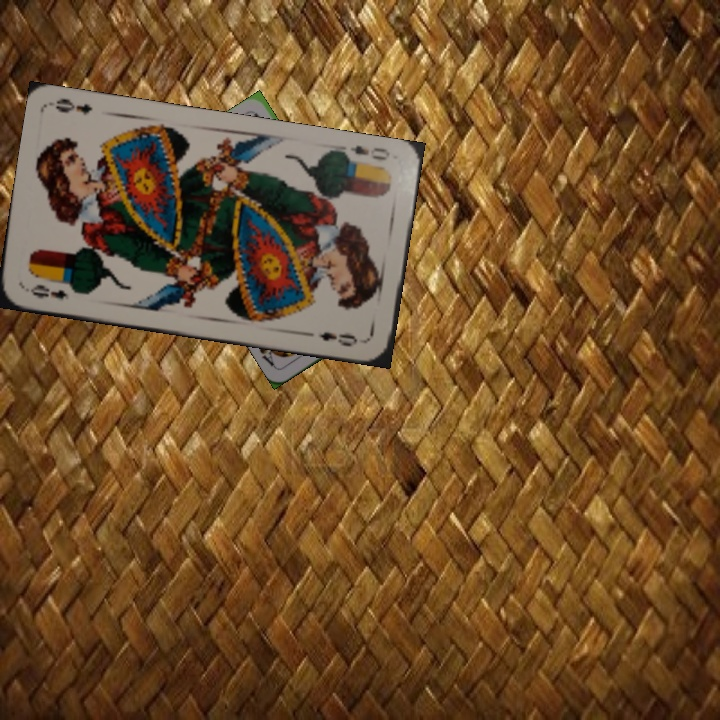EO: (22, 280, 82, 302), (346, 141, 393, 163)
